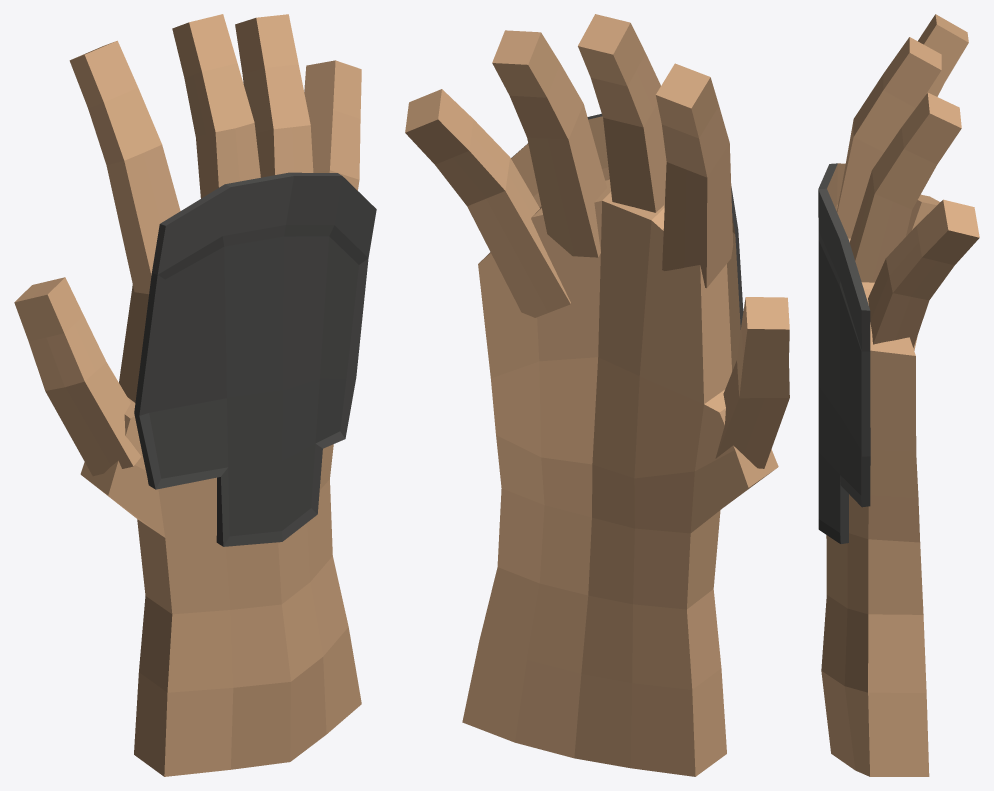
File: QuickhandR.fbx
3 views of the same model, side by side, from view 1: azimuth 30°, elevation 25°; view 2: azimuth 150°, elevation 25°; view 3: azimuth 270°, elevation 25° (orthographic). The views are drawn at different scales.
Visible parts, largest first — view 1: Cube.007; view 2: Cube.007; view 3: Cube.007.
Part boxes in pixels (box(x1,y1,x2,y2)): Cube.007: box(14, 14, 376, 776); Cube.007: box(405, 14, 789, 776); Cube.007: box(818, 14, 979, 776).
Bounding box in the file's own units: 16.44 × 31.91 × 6.77.
